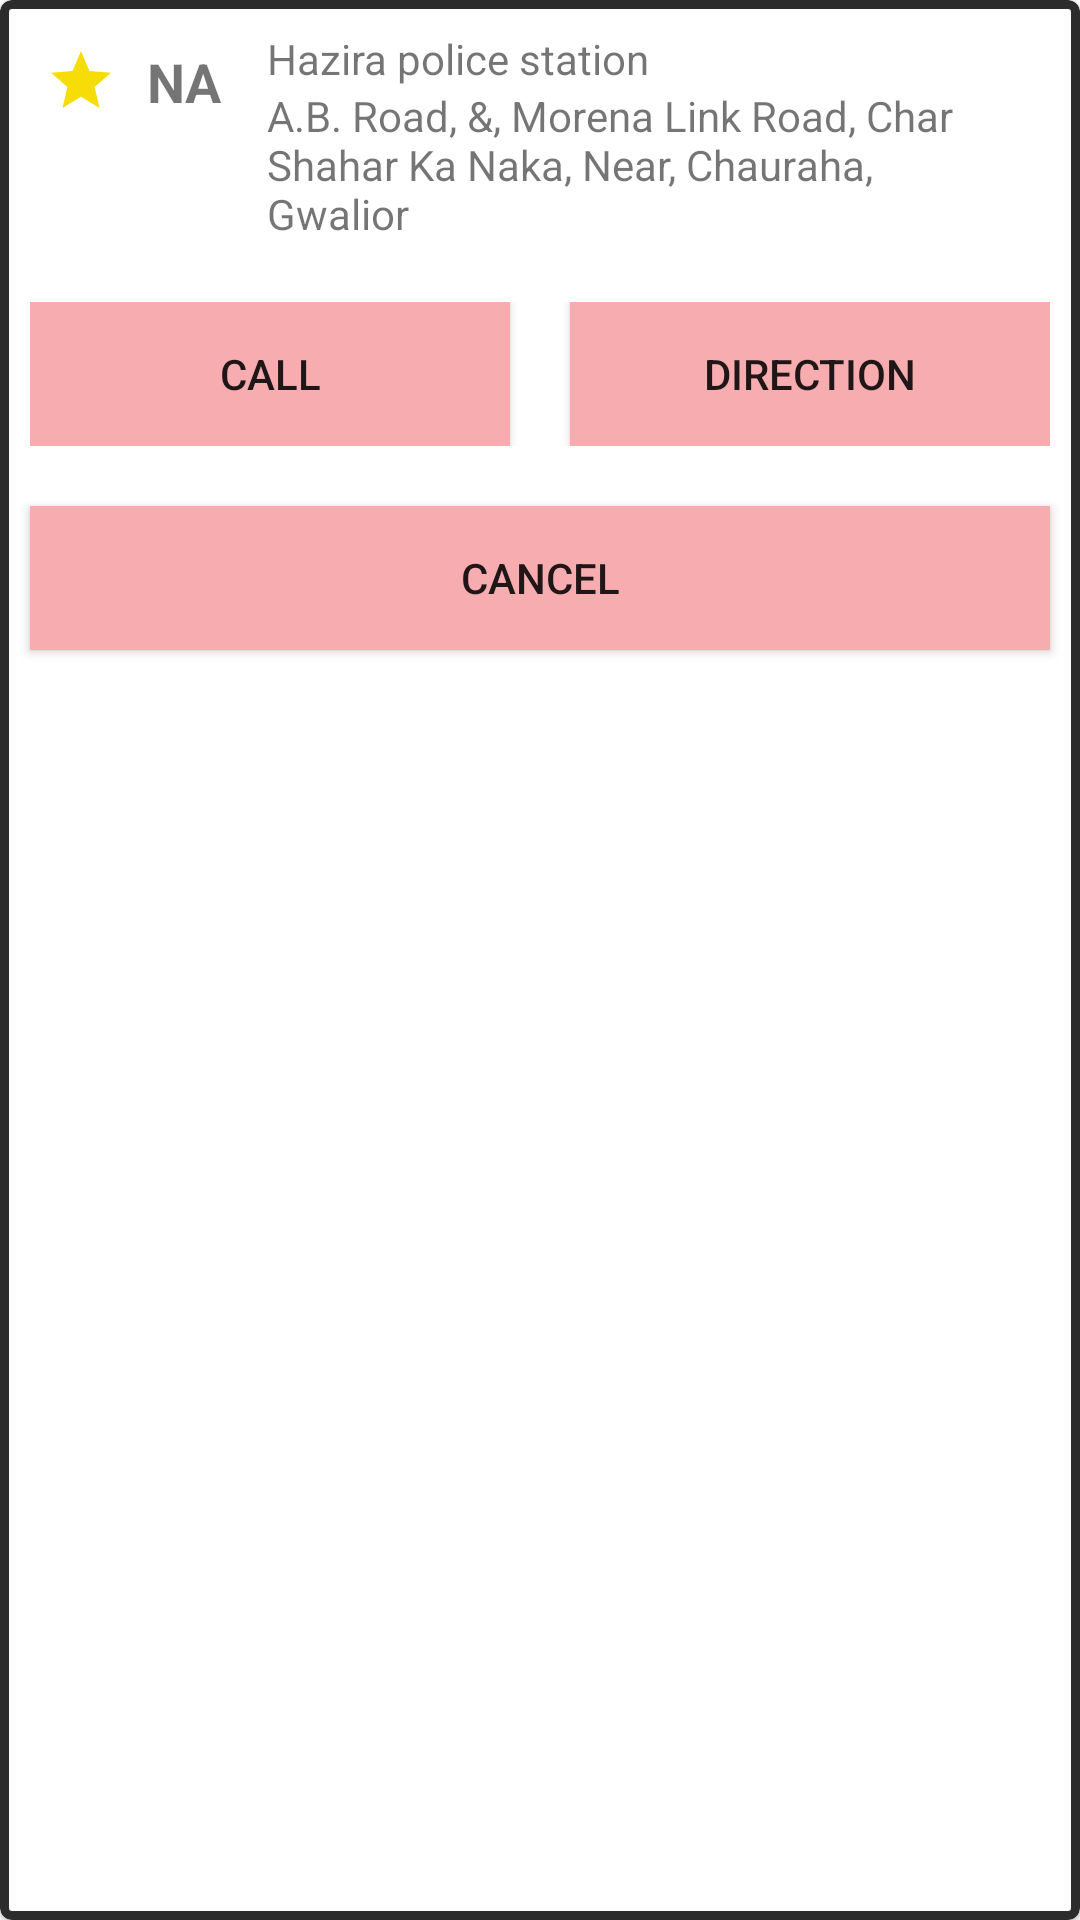

Where icons sit on this 1080×1920 app screen, as (x1, y1, x2, y2):
star: (51, 51, 111, 108)
